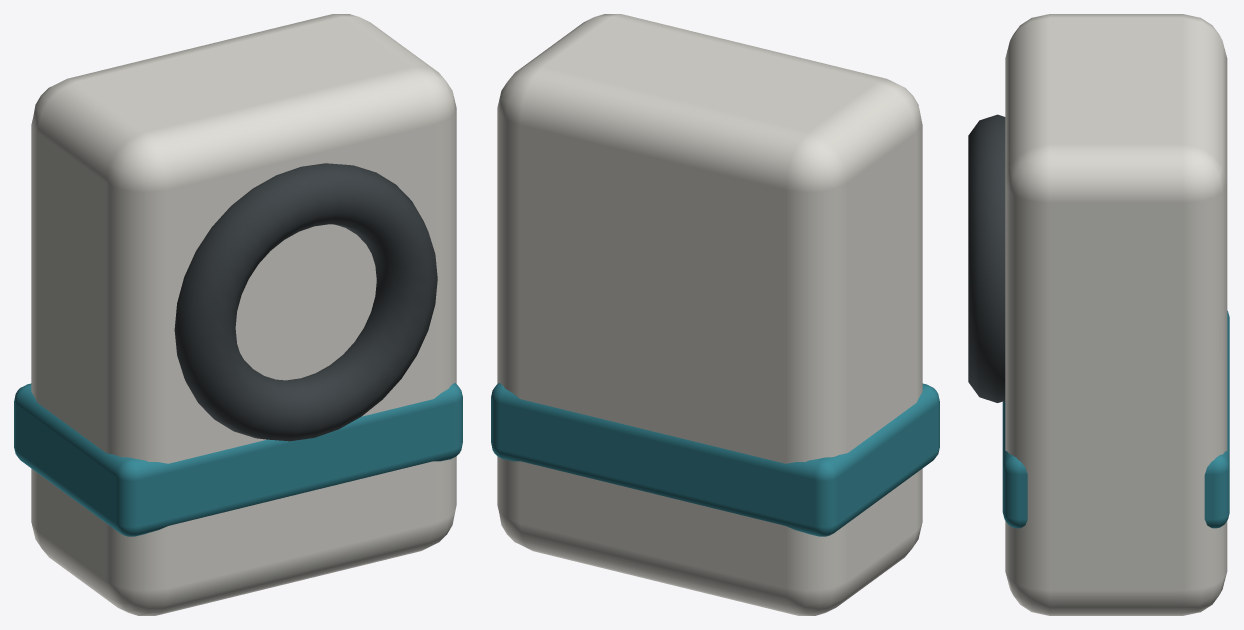
File: bicycle-shop-and-repair-cafe-inner-tube-box-5a91e206__32419.glb
3 views of the same model, side by side, from view 1: azimuth 30°, elevation 25°; view 2: azimuth 150°, elevation 25°; view 3: azimuth 270°, elevation 25° (orthographic). The views are drawn at different scales.
Visible parts, largest first — view 1: inner-tube-box; view 2: inner-tube-box; view 3: inner-tube-box.
Boxes of the visible parts, <box> form: inner-tube-box: <box>14,14,462,615</box>; inner-tube-box: <box>491,14,939,615</box>; inner-tube-box: <box>968,14,1229,615</box>.
Bounding box in the file's own units: 0.0762 × 0.1 × 0.0507.
